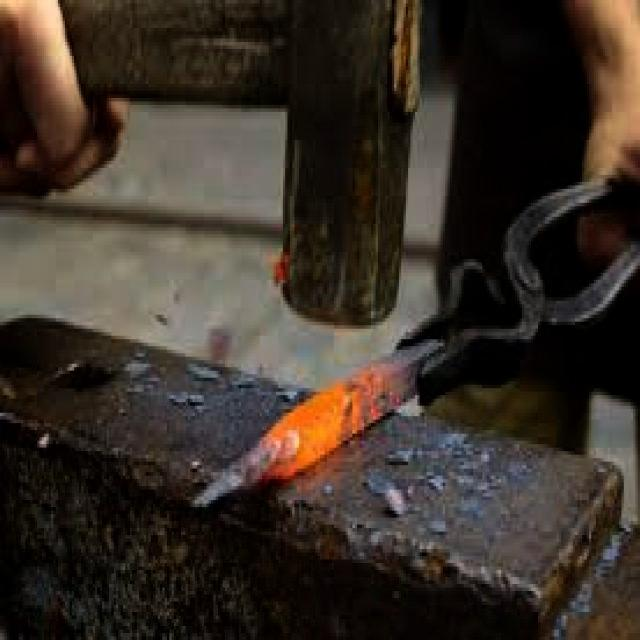hammer: (11, 0, 426, 339)
